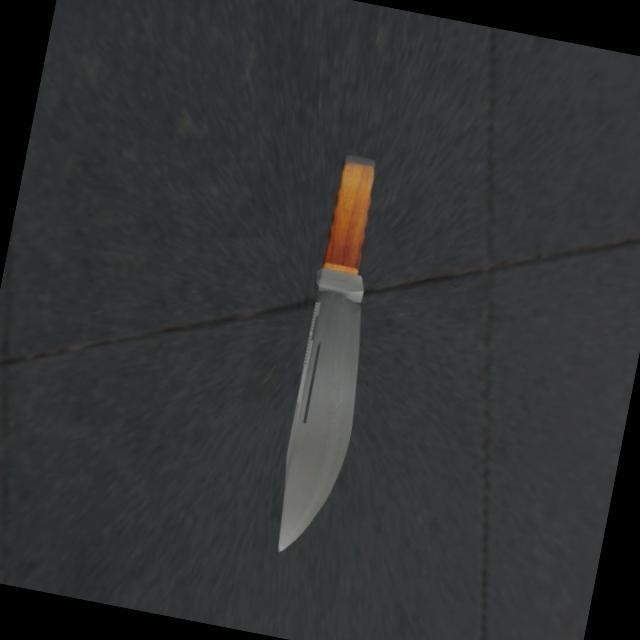knife: (312, 141, 388, 301)
